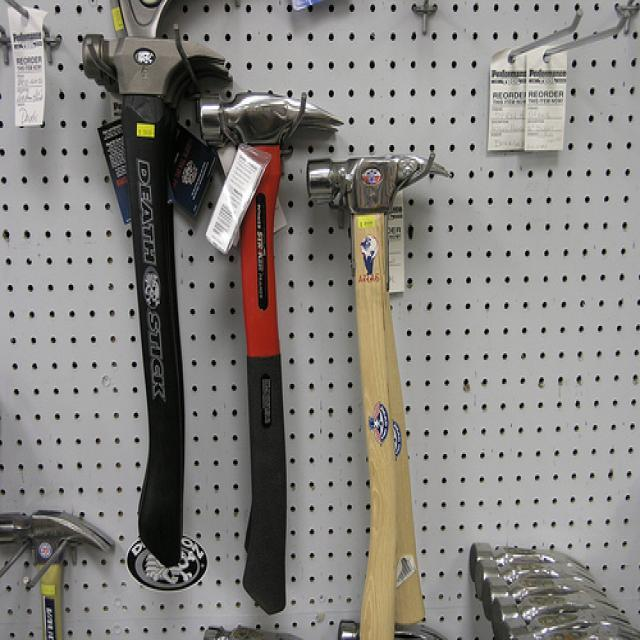hammer: (71, 26, 228, 582), (188, 81, 342, 618), (297, 145, 459, 640)
